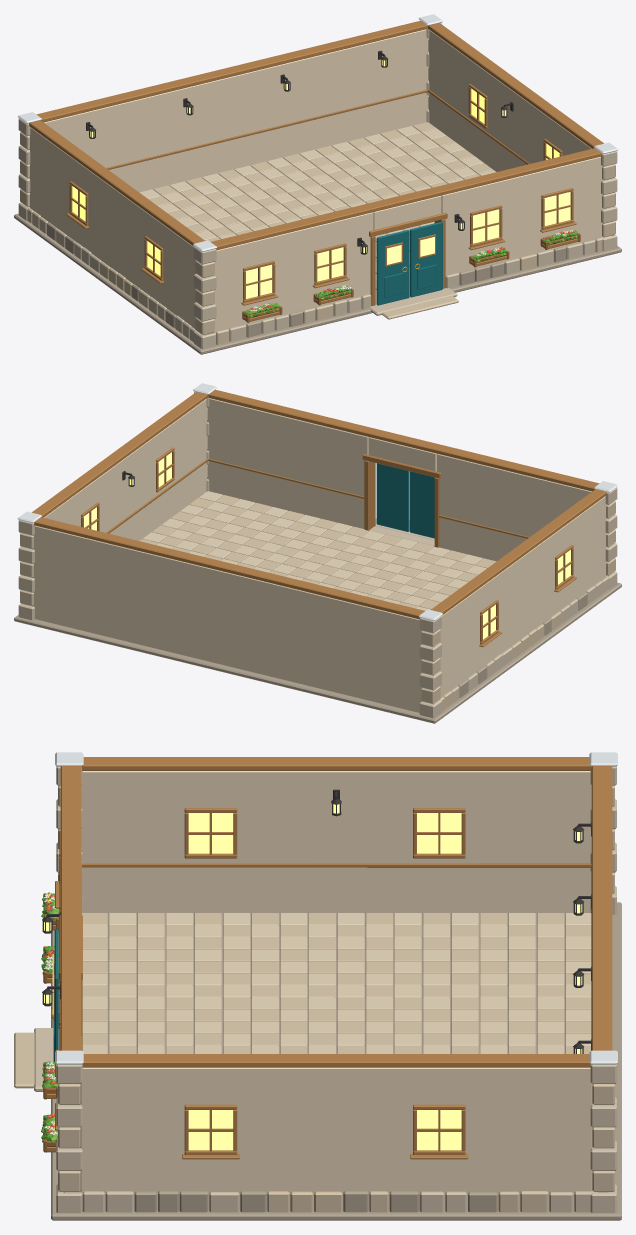
Rendered from arcade_shell.glb.
The picture shows the model from 3 angles, top to bottom: view 1: azimuth 30°, elevation 25°; view 2: azimuth 150°, elevation 25°; view 3: azimuth 270°, elevation 25°; orthographic projection. The views are drawn at different scales.
Parts seen in each view (by area): view 1: arcade_shell, arcade_shell_cutaway, part_door_l, part_door_r; view 2: arcade_shell, arcade_shell_cutaway, part_door_r, part_door_l; view 3: arcade_shell, arcade_shell_cutaway.
Part boxes in pixels (bbox=[...]): arcade_shell: bbox=[14, 14, 621, 354]; arcade_shell_cutaway: bbox=[193, 142, 618, 349]; part_door_l: bbox=[376, 230, 409, 305]; part_door_r: bbox=[410, 221, 442, 297]; arcade_shell: bbox=[14, 392, 621, 723]; arcade_shell_cutaway: bbox=[193, 383, 618, 589]; part_door_r: bbox=[376, 463, 409, 531]; part_door_l: bbox=[410, 471, 434, 538]; arcade_shell: bbox=[14, 752, 621, 1220]; arcade_shell_cutaway: bbox=[41, 752, 83, 1212].
Bounding box in the file's own units: 13 × 3.05 × 10.65.
